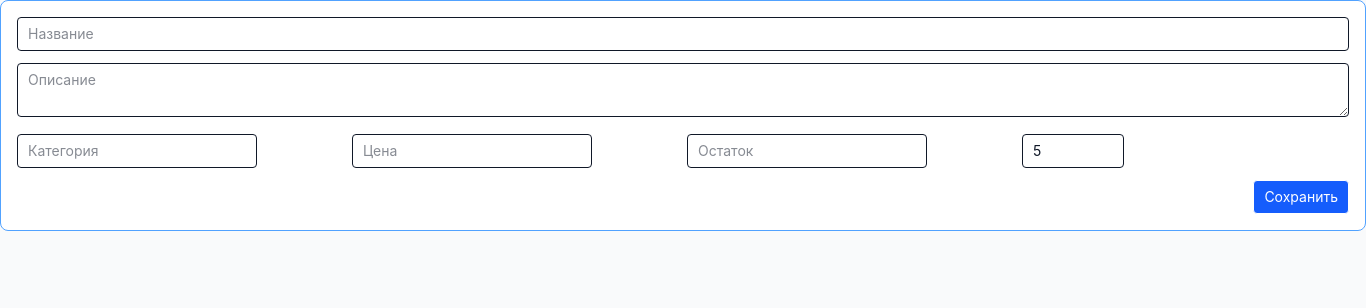
ProductForm › показывает сообщения Zod при неверном вводе
The image size is (1366, 308).
Type "АБ" into the field with placeholder "Название" at (683, 34), box [17,17,1349,51]
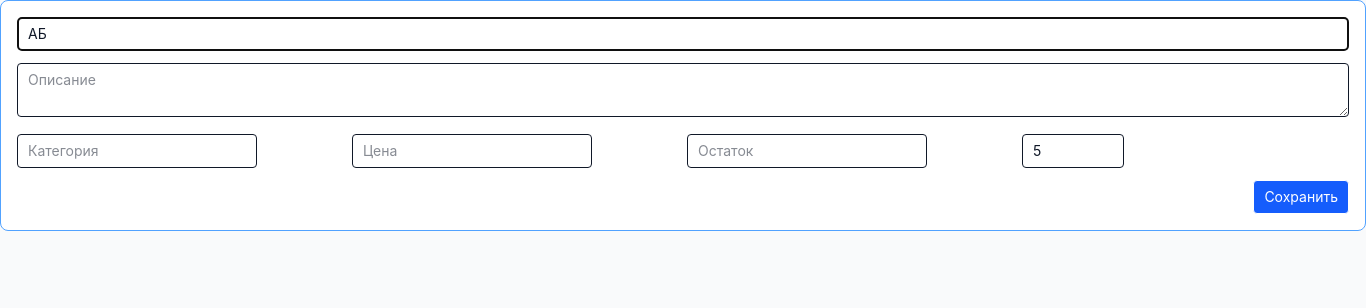
Type "Коротко" into the text box with placeholder "Описание" at (683, 90), box [17,63,1349,117]
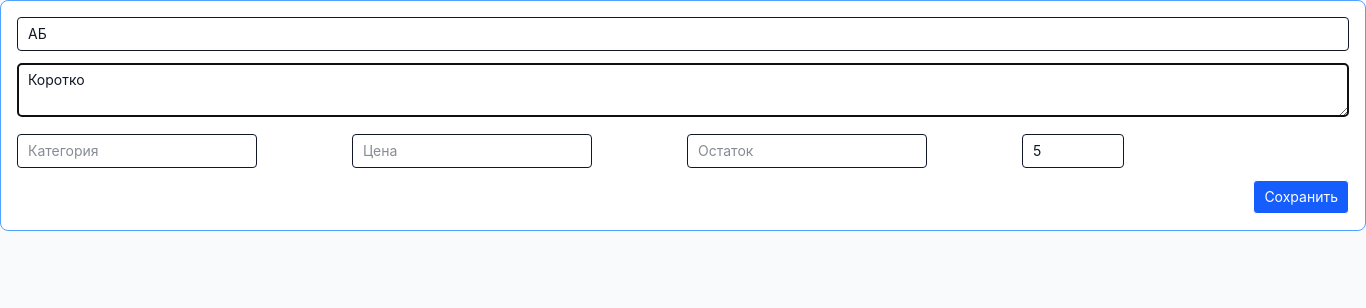
Click the button "Сохранить" at (1301, 197), box [1253,180,1349,214]
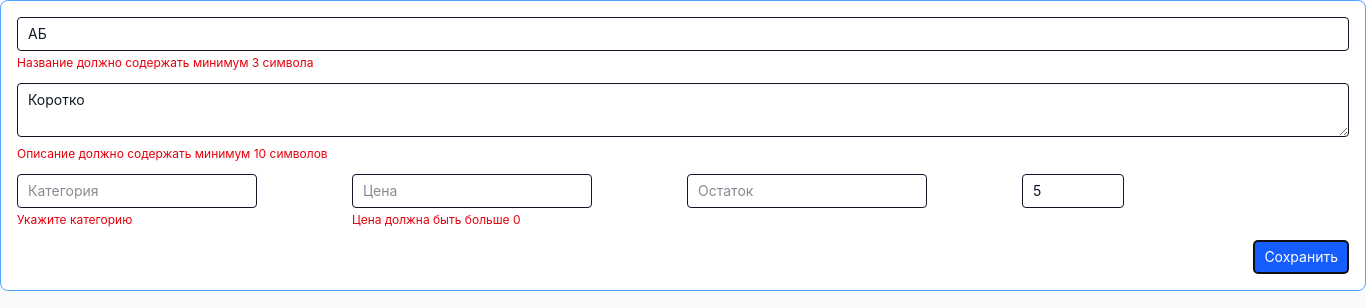
expect the text "Название должно содержать минимум 3 символа" is shown: met, box [17,55,313,70]
expect the text "Описание должно содержать минимум 10 символов" is shown: met, box [17,146,328,161]
